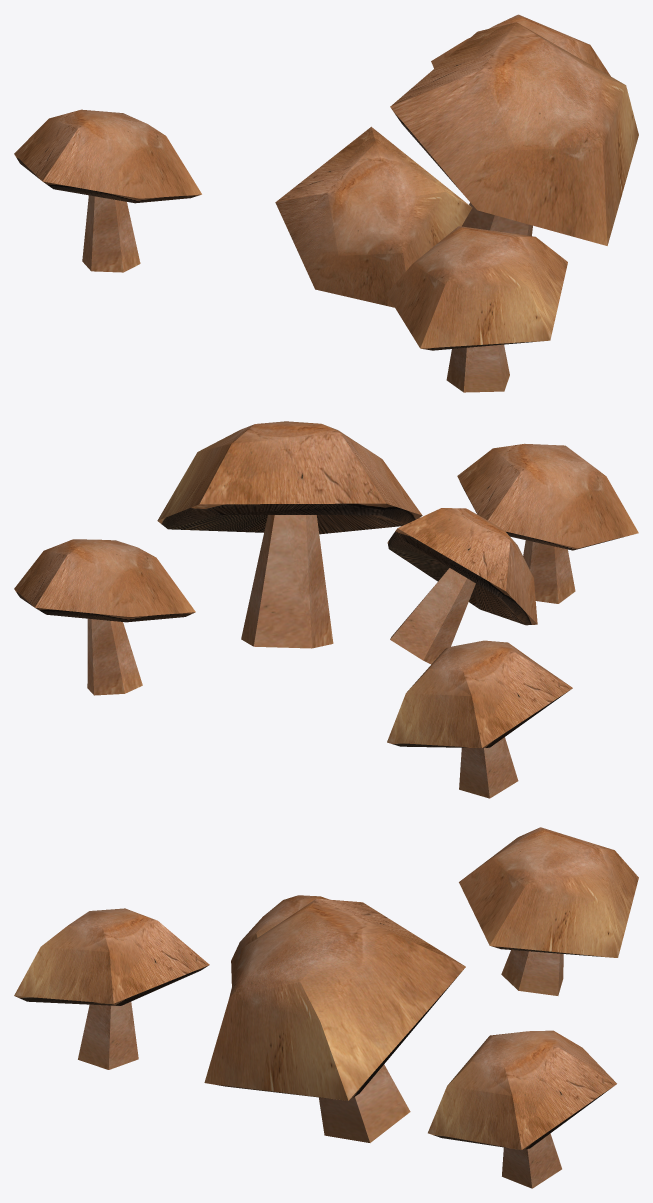
The model's file is MushroomBrownSmall_LOD1.obj.
3 views of the same model, one above another, from view 1: azimuth 30°, elevation 25°; view 2: azimuth 150°, elevation 25°; view 3: azimuth 270°, elevation 25° (orthographic). The views are drawn at different scales.
Parts seen in each view (by area): view 1: MushroomBrownSmall_LOD1; view 2: MushroomBrownSmall_LOD1; view 3: MushroomBrownSmall_LOD1.
Boxes of the visible parts, box(x1,y1,x2,y2) form: MushroomBrownSmall_LOD1: box(14, 14, 638, 392); MushroomBrownSmall_LOD1: box(14, 421, 638, 798); MushroomBrownSmall_LOD1: box(14, 827, 638, 1188).
Size of the model in its own units: 0.2853 by 0.1047 by 0.2723.
